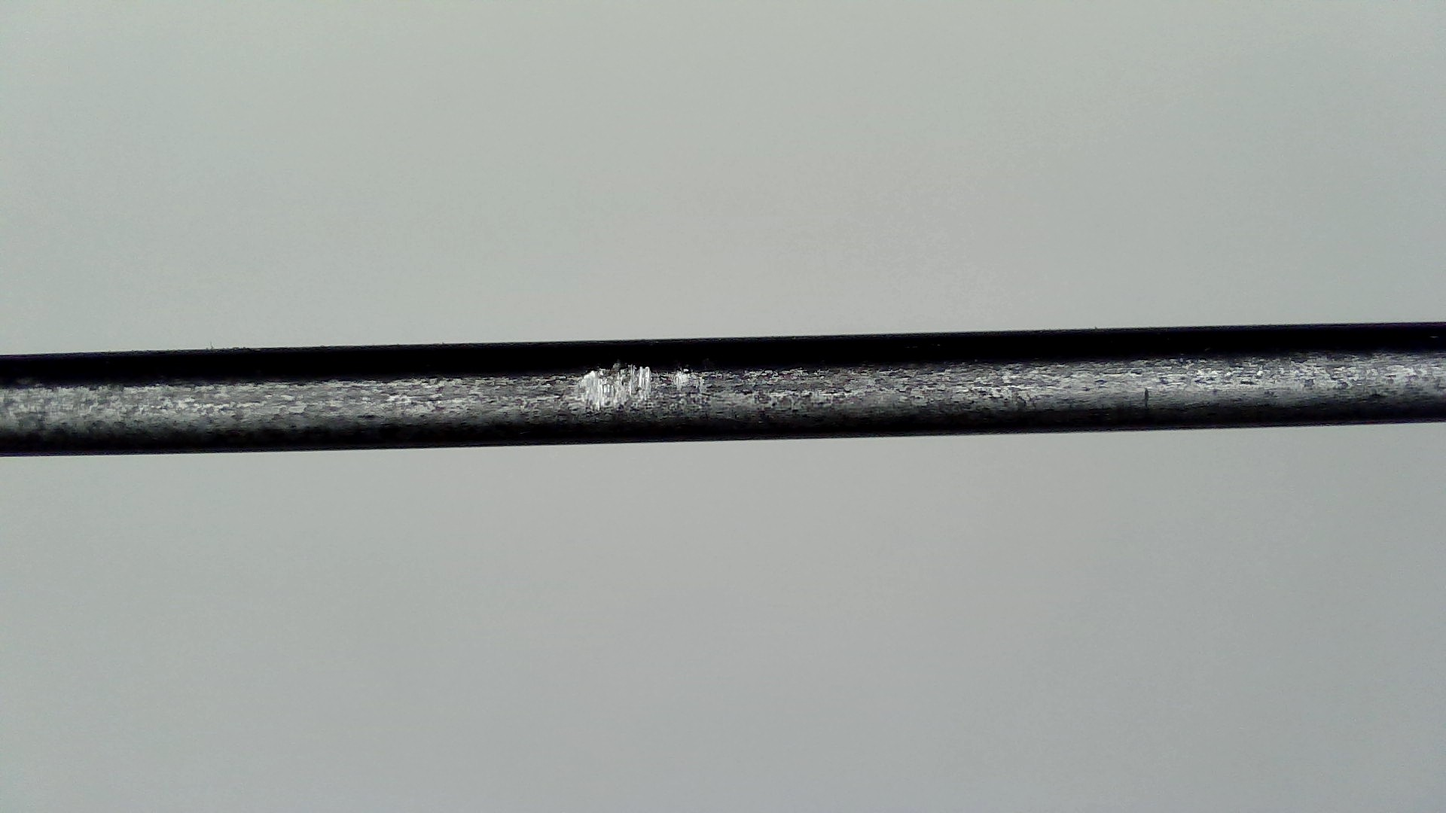defect: (554, 343, 726, 416)
